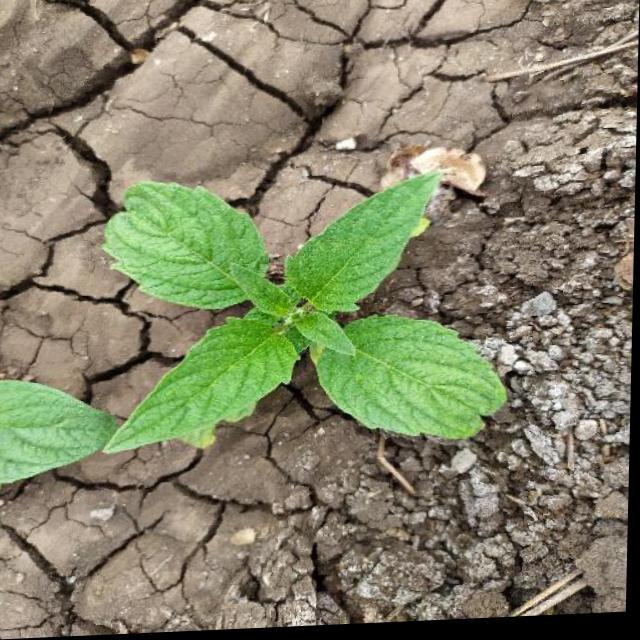crop: (79, 117, 525, 537)
